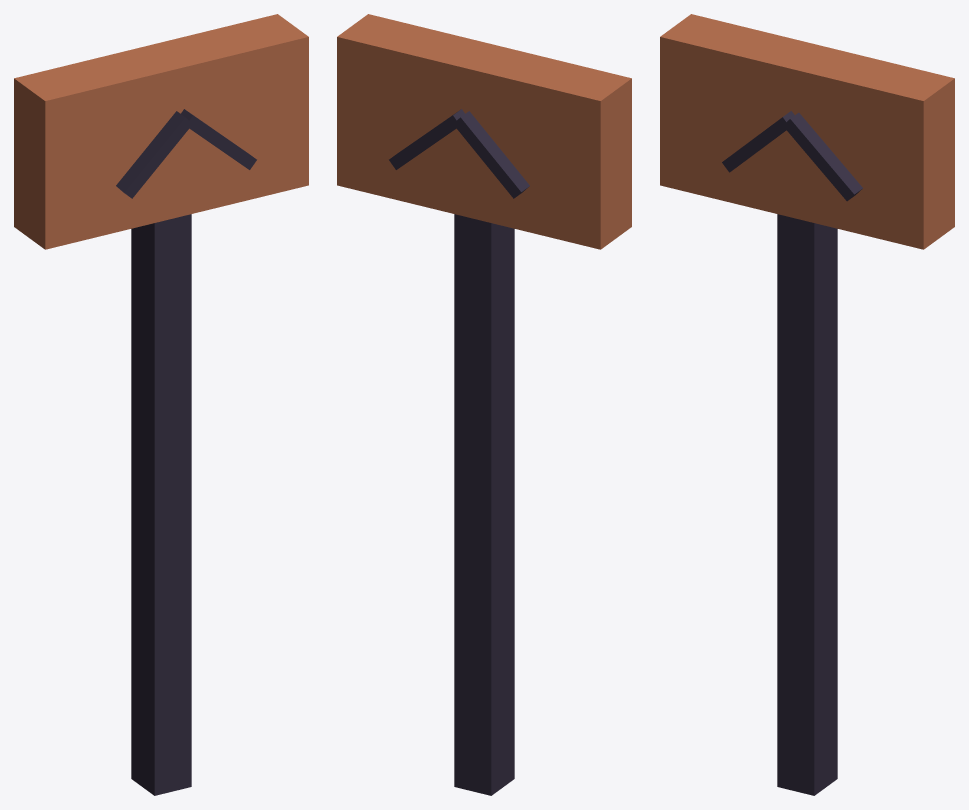
The model's file is ridge-marker.glb.
3 views of the same model, side by side, from view 1: azimuth 30°, elevation 25°; view 2: azimuth 150°, elevation 25°; view 3: azimuth 330°, elevation 25° (orthographic).
Parts seen in each view (by area): view 1: ridge-marker; view 2: ridge-marker; view 3: ridge-marker.
Boxes of the visible parts, <box> form: ridge-marker: <box>14,14,308,795</box>; ridge-marker: <box>337,14,631,795</box>; ridge-marker: <box>660,14,954,795</box>.
Size of the model in its own units: 0.78 by 2.05 by 0.25.
